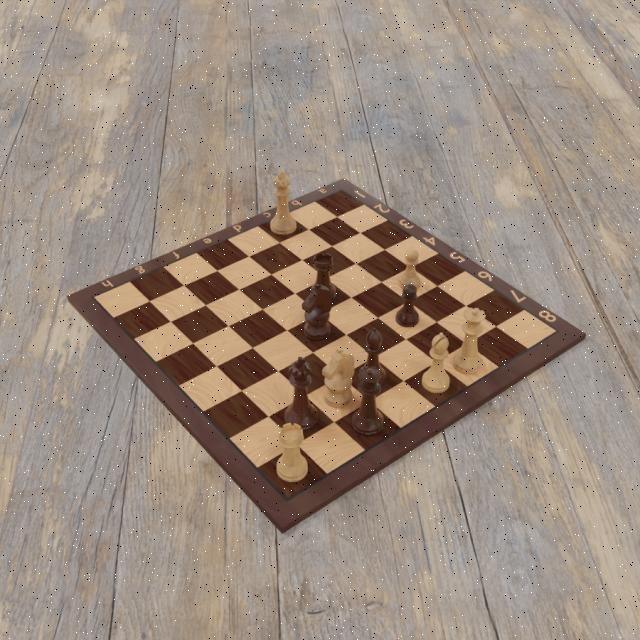black-bishop: (358, 326, 388, 388)
black-king: (281, 356, 319, 432)
black-knight: (302, 282, 334, 340)
black-pawn: (394, 283, 422, 328)
black-queen: (350, 364, 385, 436)
black-rook: (310, 252, 338, 304)
white-bishop: (420, 332, 451, 395)
white-king: (268, 171, 297, 237)
white-knight: (322, 348, 356, 408)
white-pawn: (396, 249, 422, 291)
white-queen: (453, 306, 487, 376)
white-rook: (275, 421, 308, 483)
